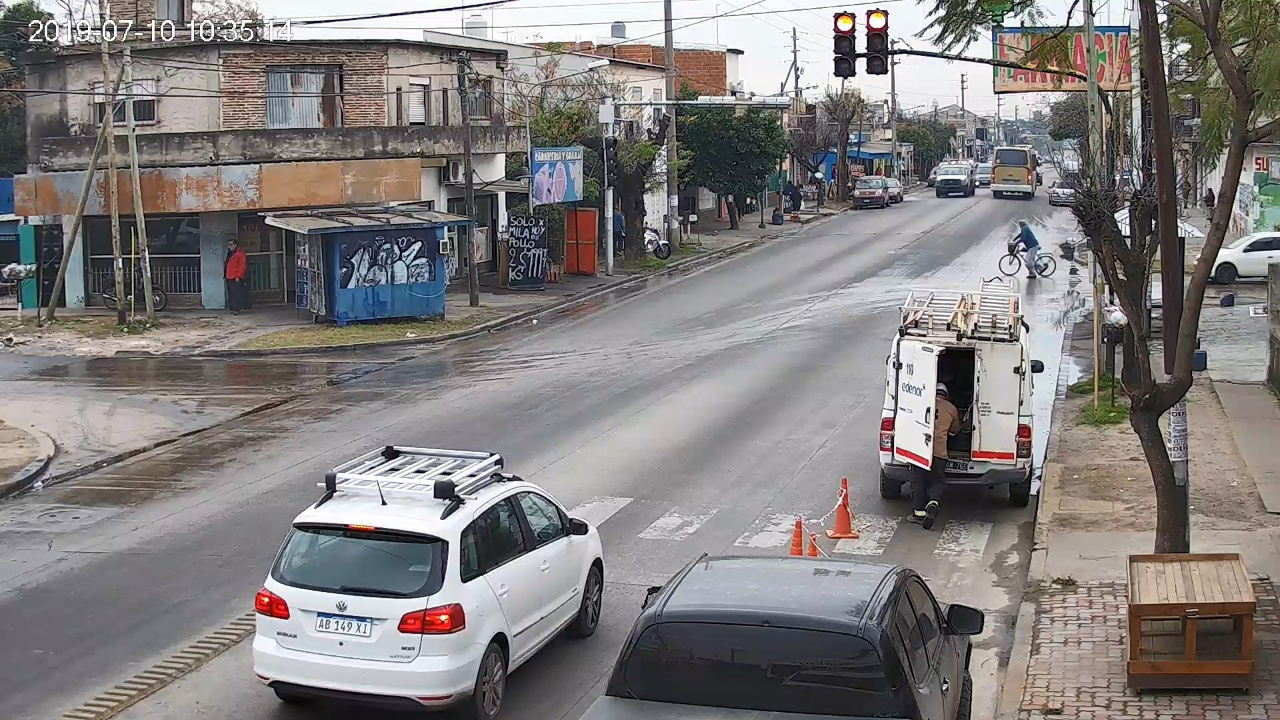car: (252, 444, 606, 720)
traffic light: (835, 13, 855, 76), (867, 10, 886, 74)
